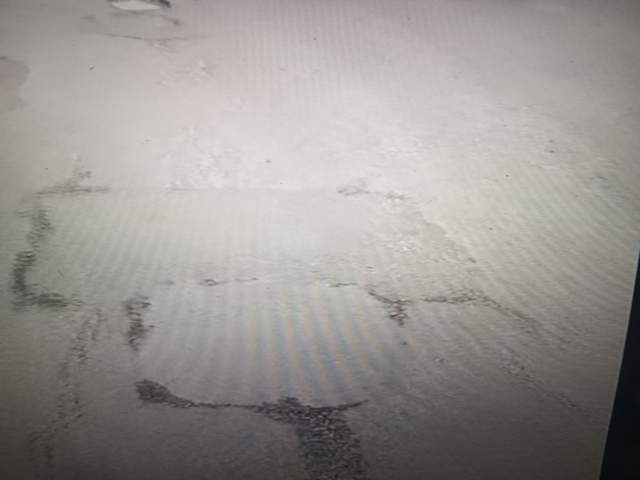pothole: (120, 403, 354, 480)
